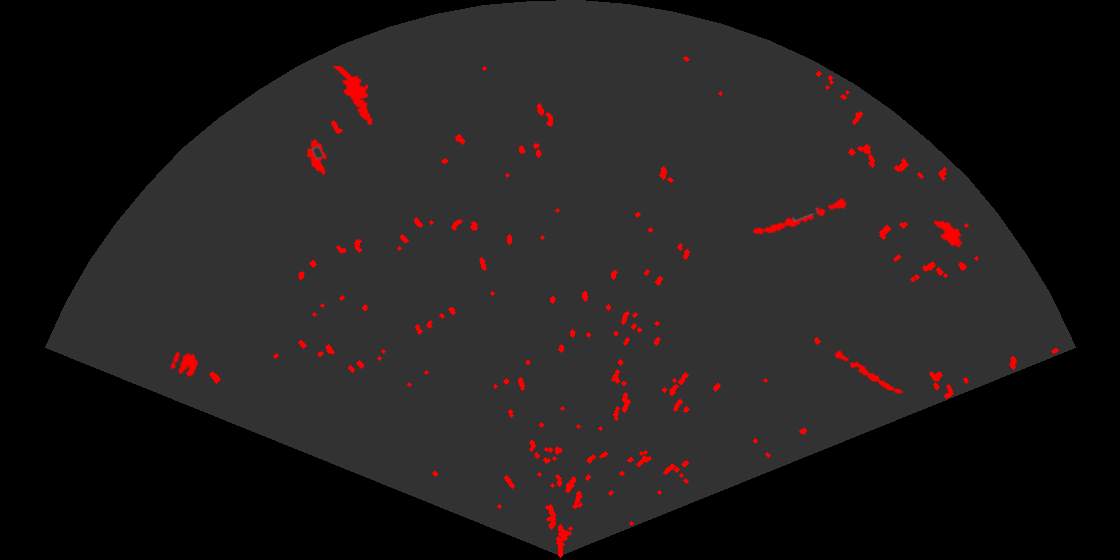AUV: (932, 218, 964, 249), (305, 137, 329, 177)
ball: (169, 350, 200, 379)
chain: (825, 344, 905, 396), (751, 196, 854, 236)
frogman: (331, 66, 375, 127)
